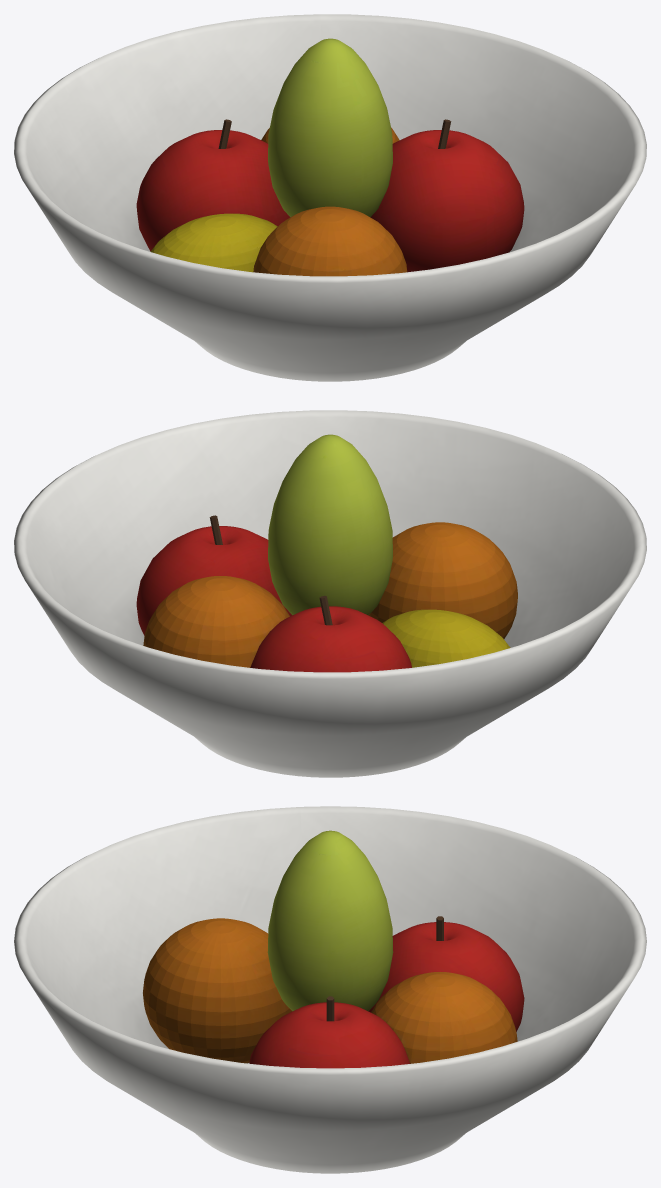
Rendered from mixed-white-bowl.glb.
3 renders of one model, top to bottom at view 1: azimuth 30°, elevation 25°; view 2: azimuth 150°, elevation 25°; view 3: azimuth 270°, elevation 25°, orthographic.
Visible parts, largest first — view 1: ceramic_primary, apple_skin, pear_skin, orange_peel, lemon_peel; view 2: ceramic_primary, orange_peel, pear_skin, apple_skin, lemon_peel; view 3: ceramic_primary, orange_peel, pear_skin, apple_skin.
Part boxes in pixels (x1,y1,x2,y2): ceramic_primary: (14, 14, 646, 381); apple_skin: (136, 130, 524, 272); pear_skin: (268, 38, 392, 217); orange_peel: (253, 127, 407, 276); lemon_peel: (150, 213, 277, 272); ceramic_primary: (14, 410, 646, 777); orange_peel: (143, 522, 517, 667); pear_skin: (268, 434, 392, 615); apple_skin: (136, 526, 411, 672); lemon_peel: (382, 609, 510, 667); ceramic_primary: (14, 806, 646, 1173); orange_peel: (143, 918, 517, 1063); pear_skin: (267, 830, 393, 1011); apple_skin: (249, 922, 524, 1068).
Size of the model in its own units: 0.3 by 0.147 by 0.3.
6 materials, 5 textured.
